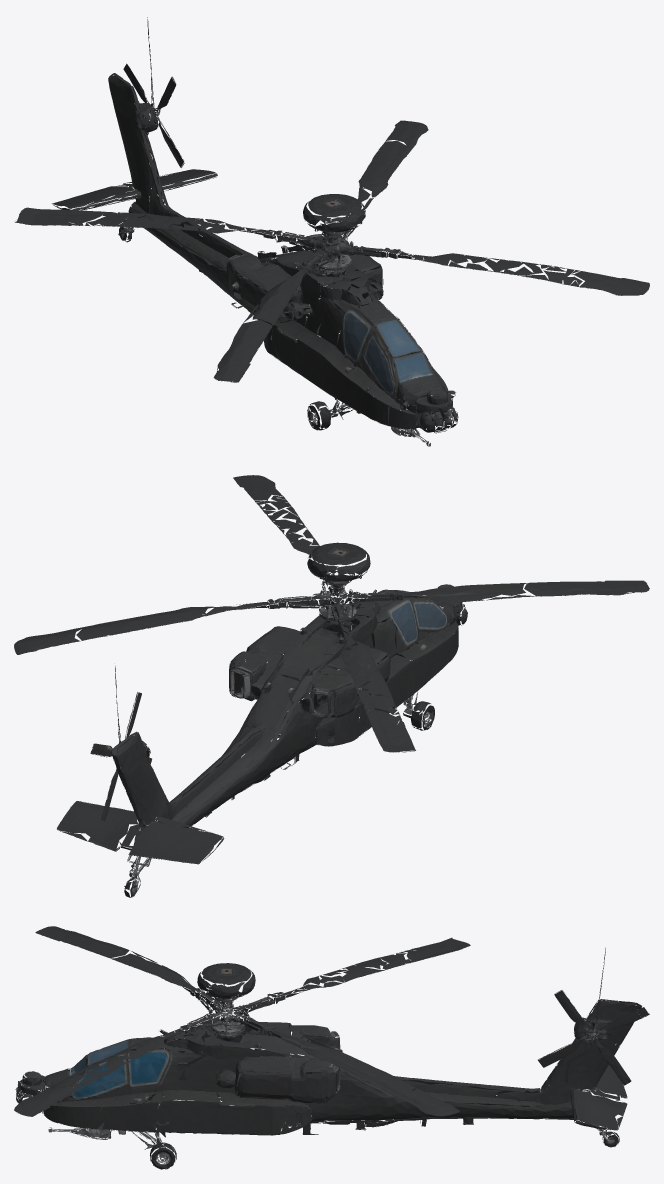
File: ah64full.glb
3 views of the same model, one above another, from view 1: azimuth 30°, elevation 25°; view 2: azimuth 150°, elevation 25°; view 3: azimuth 270°, elevation 25° (orthographic). The views are drawn at different scales.
Bounding box in the file's own units: 1.23 × 0.6227 × 1.72.
1 material, 1 textured.
